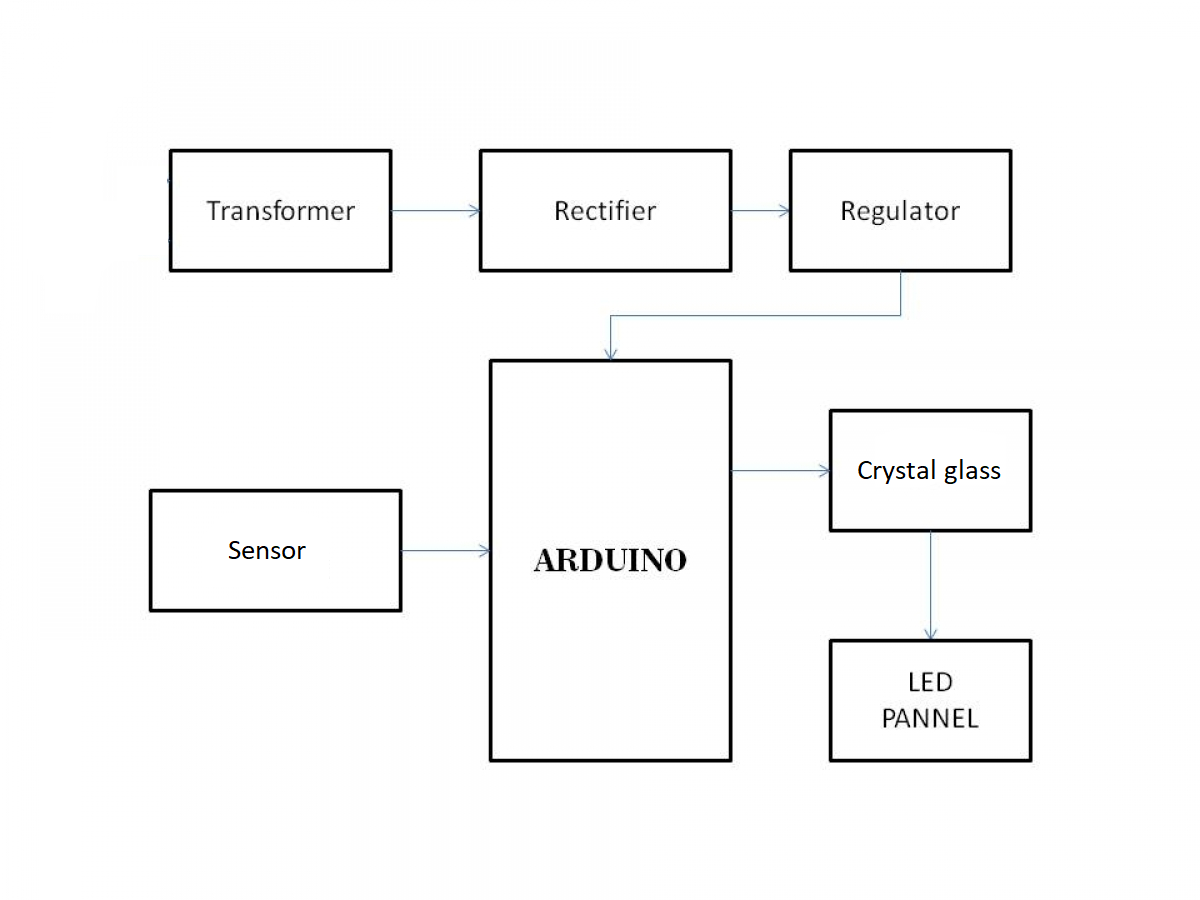arrow: (600, 268, 907, 361), (383, 198, 480, 224), (921, 533, 942, 640), (400, 536, 489, 561), (726, 461, 831, 479), (728, 200, 789, 222)
process: (481, 353, 739, 769), (474, 143, 739, 280), (143, 484, 407, 617), (163, 144, 400, 279), (785, 142, 1017, 277), (825, 405, 1039, 537), (825, 633, 1037, 766)
text: (877, 668, 978, 736), (529, 540, 689, 580), (855, 453, 1002, 488), (202, 194, 358, 224), (836, 198, 963, 228), (550, 196, 658, 225), (221, 536, 309, 563)
